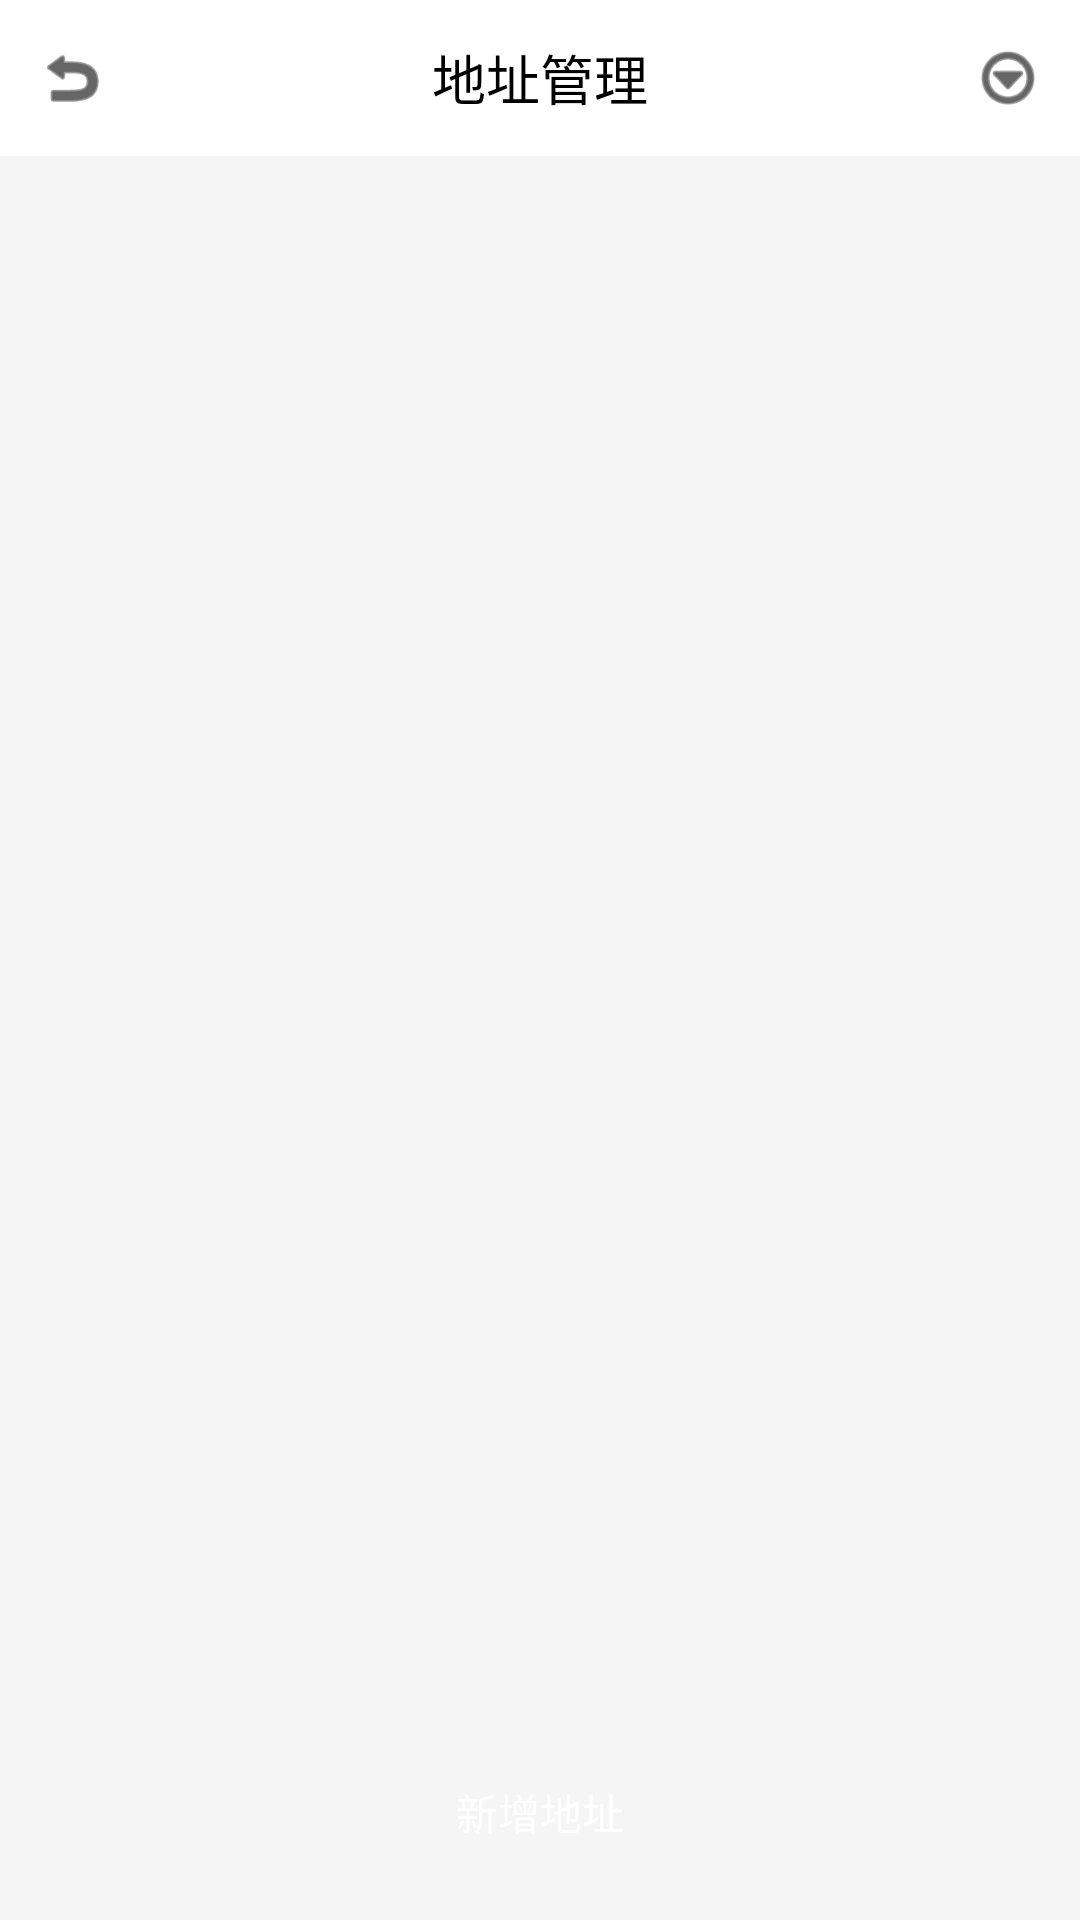

Icon bounding boxes for this 1080*1920 phone screenshot, format box(x1, y1, x2, y2):
more: box(981, 51, 1035, 105)
revert: box(47, 55, 99, 102)
